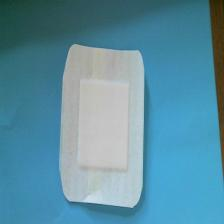Dressing: (60, 43, 148, 210)
